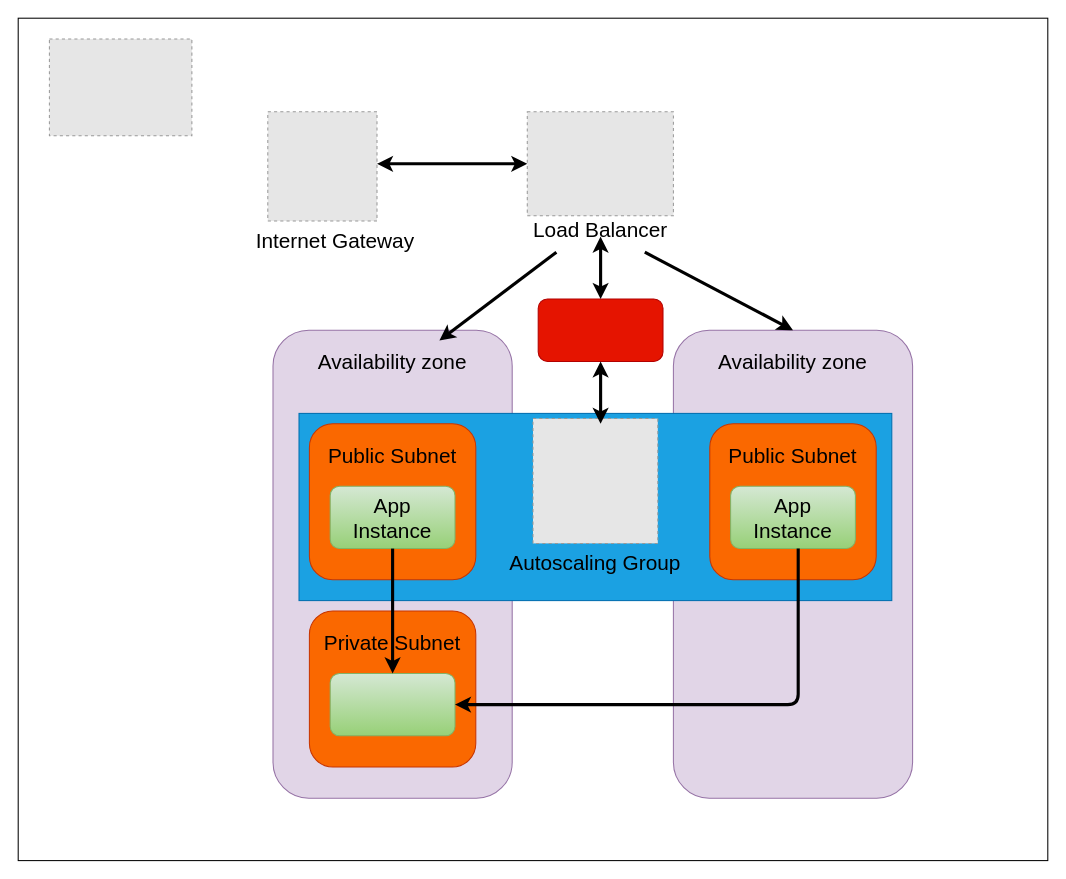
Image size: 1066x879. Some labels were removed from this diagram. Grey dashed boxes stand in for pictures. The shapes that lost their labels are listed below. From the top down, each one's centre as x and y in pixels, then its label:
At pixel 600 329: "Health Checker".
At pixel 392 704: "DB Instance".
